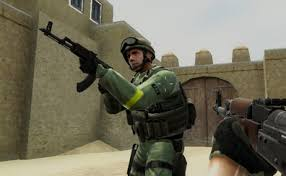gun: (211, 86, 284, 174), (38, 20, 116, 95)
